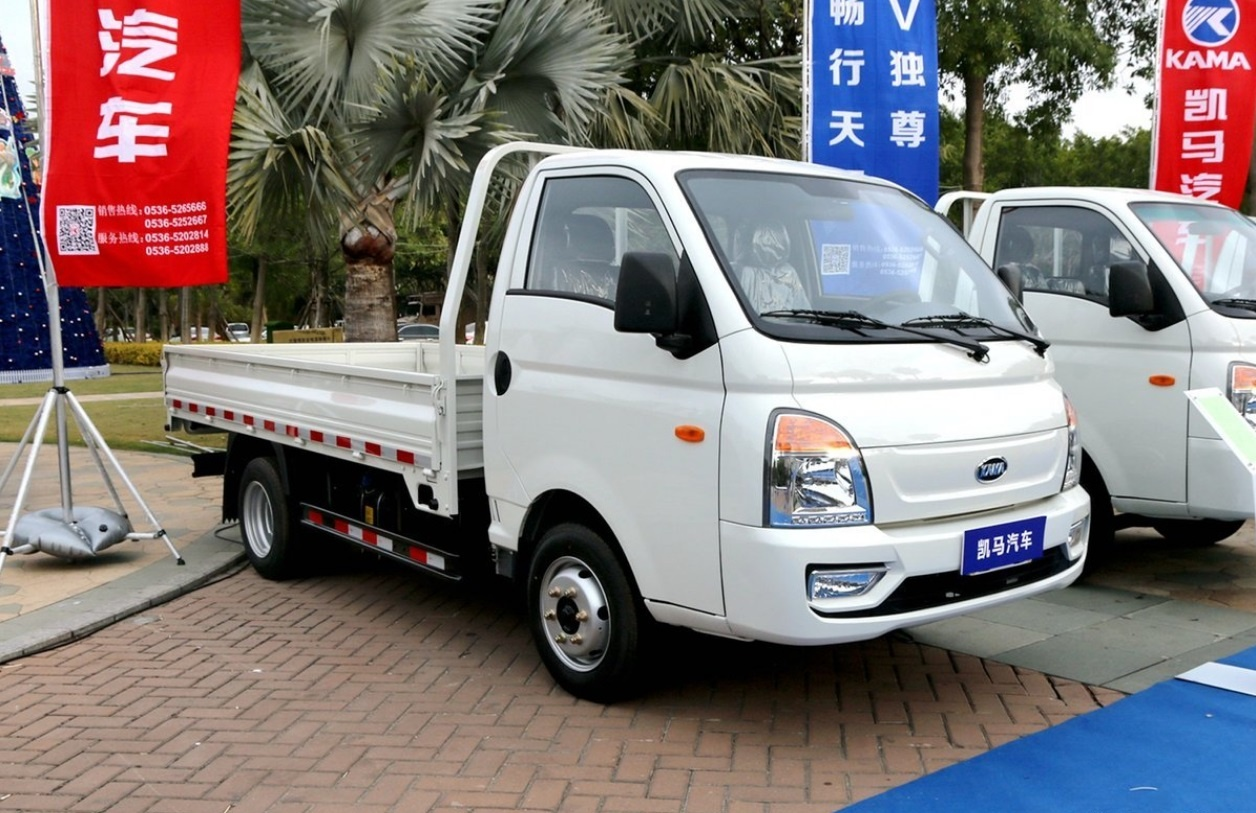truck: (158, 100, 1110, 700), (953, 188, 1256, 554)
